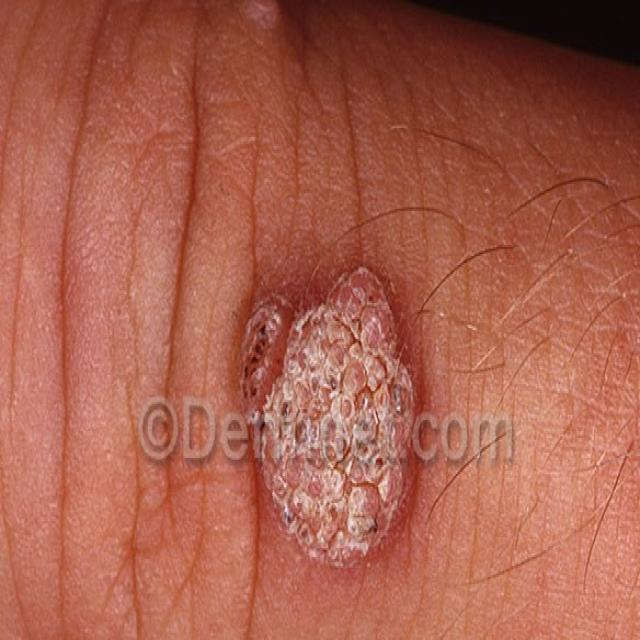Warts: (215, 223, 441, 609), (237, 0, 301, 61)
